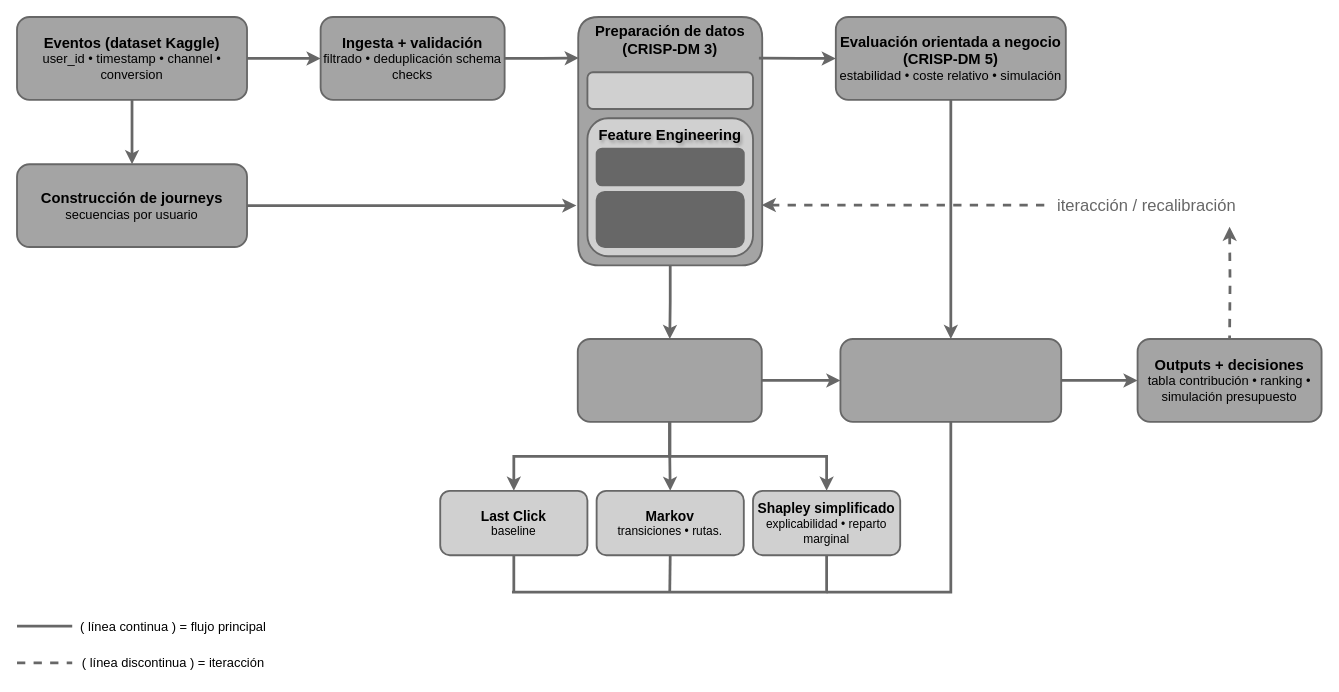
Some shapes in this 1339 by 692 pixel diagram are drawn without their labels. Here are the shapes that lost their labels. From the top down, the centre of each, then its label:
At (669,90): "limpieza • encoding • features".
At (669,166): "Orden temporal".
At (669,218): "Decaimiento (half-life)".
At (669,380): "Modelos de atribución (CRISP-DM 4)".
At (950,380): "Reporting + visualización dashboards • tablas • insights".
